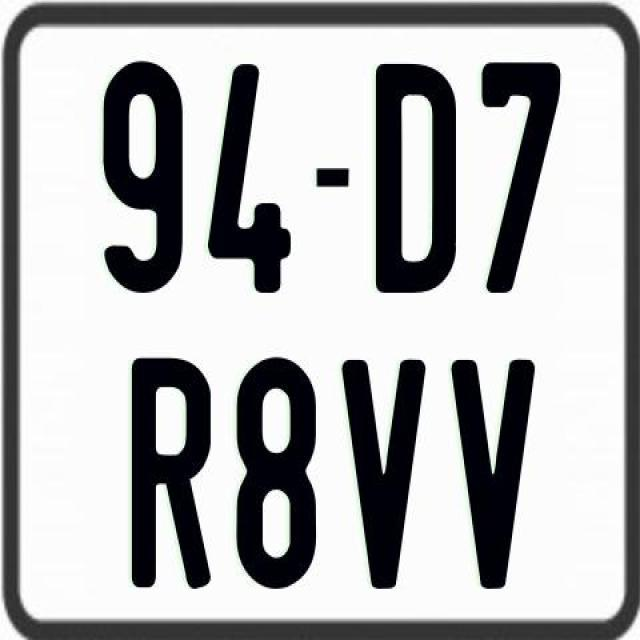4: (206, 64, 294, 298)
7: (480, 62, 560, 300)
8: (236, 352, 318, 589)
9: (103, 61, 191, 293)
D: (372, 64, 454, 294)
R: (129, 358, 211, 592)
V: (338, 355, 426, 587), (449, 359, 535, 588)
